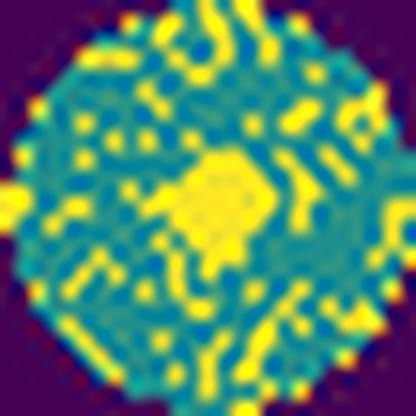Center: (133, 145, 284, 281)
